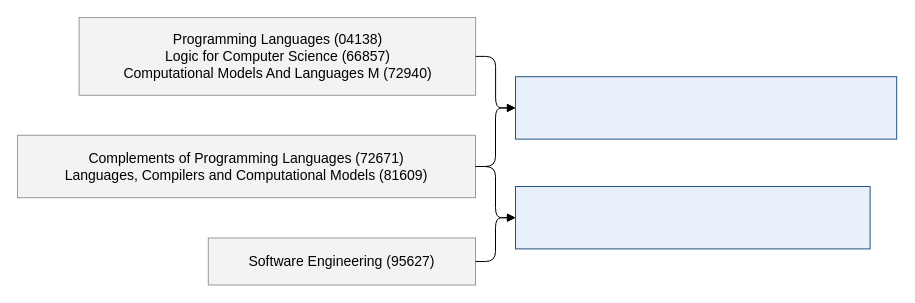
Some shapes in this 915 by 303 pixel diagram are drawn without their labels. The shapes that lost their labels are listed below. From the top down, each one's centre as x and y in pixels, then its label:
the point at 705,107: Formal Language and Language Analysis Tools 6 ECTS
the point at 692,217: Compiler Construction and Static Analysis 3 ECTS
